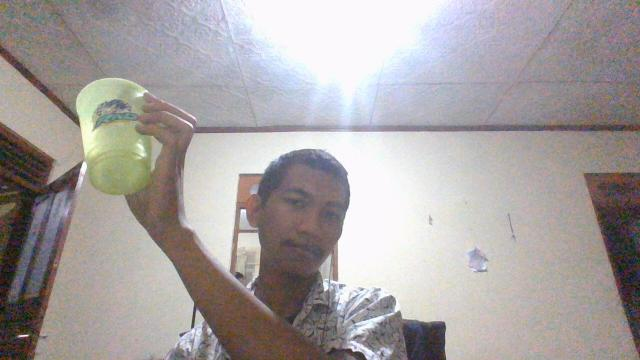botol-hijau: (74, 76, 156, 196)
